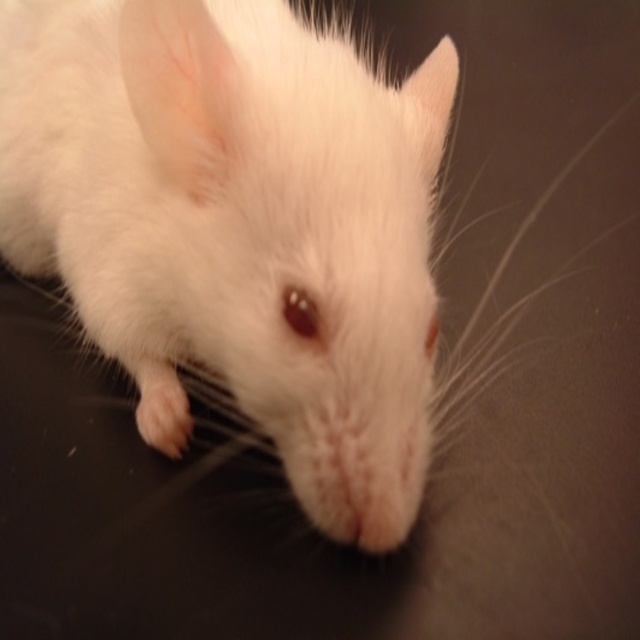Hamster: (0, 0, 639, 568)
